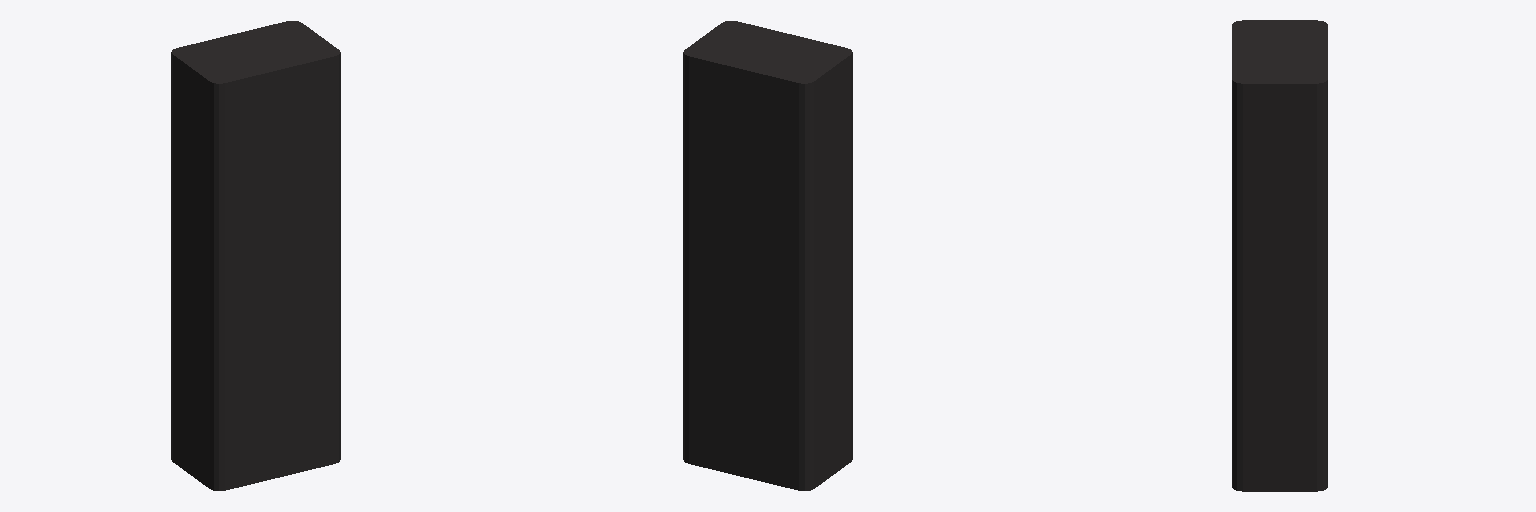
URDF robot description (Large_Long_Rectangle_Yellow):
<?xml version="1.0"?>
<robot name="Large_Long_Rectangle_Yellow">
    <link name="Large_Long_Rectangle_Yellow">
        <visual>
            <geometry>
                <mesh filename="../mesh/factory_insertion/Large_Long_Rectangle_Yellow.obj" scale="0.001 0.001 0.001"/>
            </geometry>
            <material name="Yellow">
              <color rgba="0.22 0.21 0.21 0.0"/>
            </material>
        </visual>
        <collision>
            <geometry>
                <mesh filename="../mesh/factory_insertion/Large_Long_Rectangle_Yellow.obj" scale="0.001 0.001 0.001"/>
            </geometry>
            <sdf resolution="512"/>
        </collision>
    </link>
</robot>

--- Facts derived from the render (not from the file) ---
The picture shows the robot from 3 angles, left to right: view 1: azimuth 30°, elevation 25°; view 2: azimuth 150°, elevation 25°; view 3: azimuth 270°, elevation 25°; orthographic projection.
Model Large_Long_Rectangle_Yellow with 1 links and 0 joints (none), rooted at Large_Long_Rectangle_Yellow, posed all joints at 0.
Links seen in each view (by area): view 1: Large_Long_Rectangle_Yellow; view 2: Large_Long_Rectangle_Yellow; view 3: Large_Long_Rectangle_Yellow.
Link boxes in pixels (x1=…): Large_Long_Rectangle_Yellow: x1=171, y1=21, x2=340, y2=490; Large_Long_Rectangle_Yellow: x1=683, y1=21, x2=852, y2=490; Large_Long_Rectangle_Yellow: x1=1232, y1=20, x2=1327, y2=491.
Size in the robot's own frame: 0.0498 by 0.032 by 0.15 metres.
Meshes: 1 distinct files referenced, 1 mesh visuals loaded (1 OBJ).
